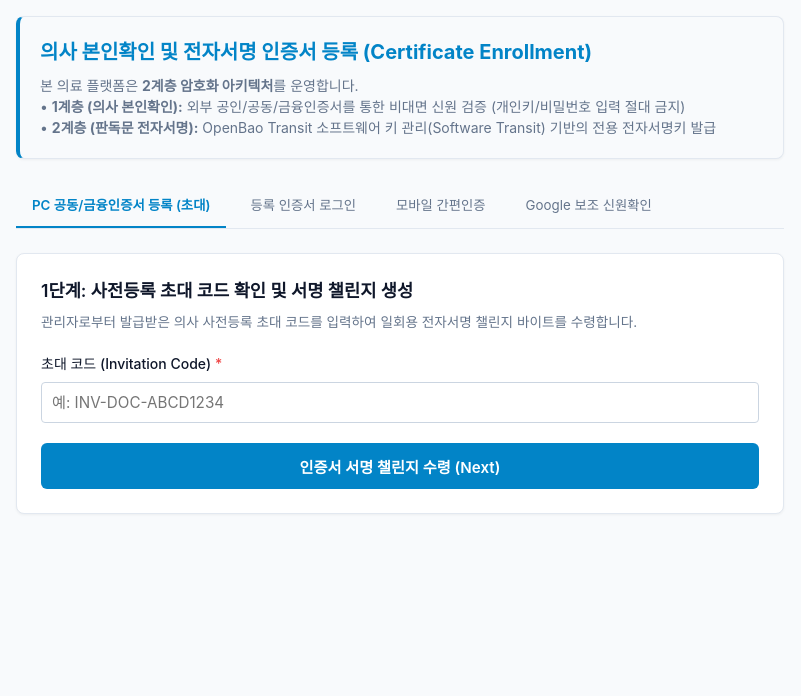
Test: Definitive Certificate Enrollment HTTP Contract Tests › 2. POST /v1/certificate-enrollment/challenges: displays exact signedPayload bytes and strictly NO private key/password inputs
Type "INV-TEST-PC-1234" into the field with test id "cert-invitation-code-input" at (400, 402), box [41, 382, 759, 423]
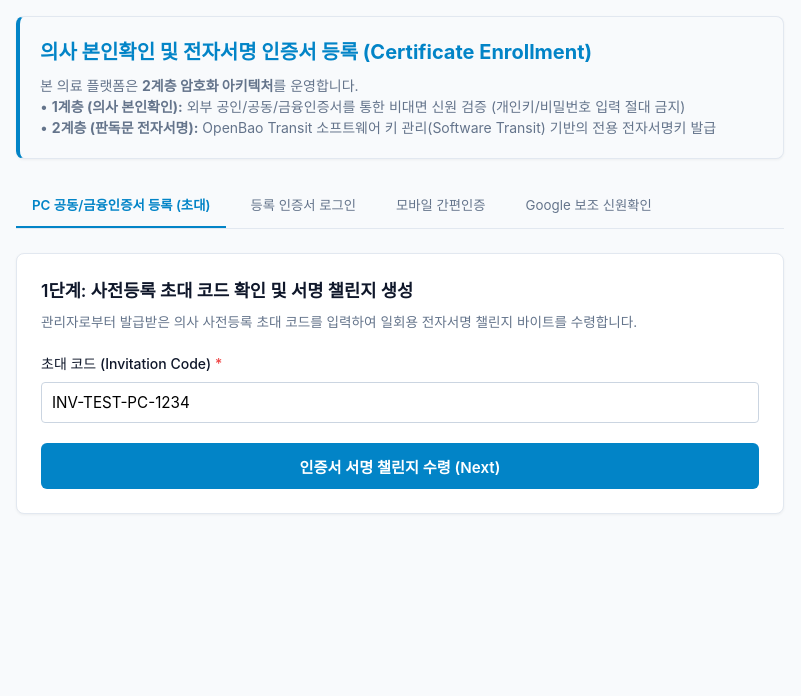
Click the button with test id "request-cert-challenge-btn" at (400, 466), box [41, 443, 759, 489]
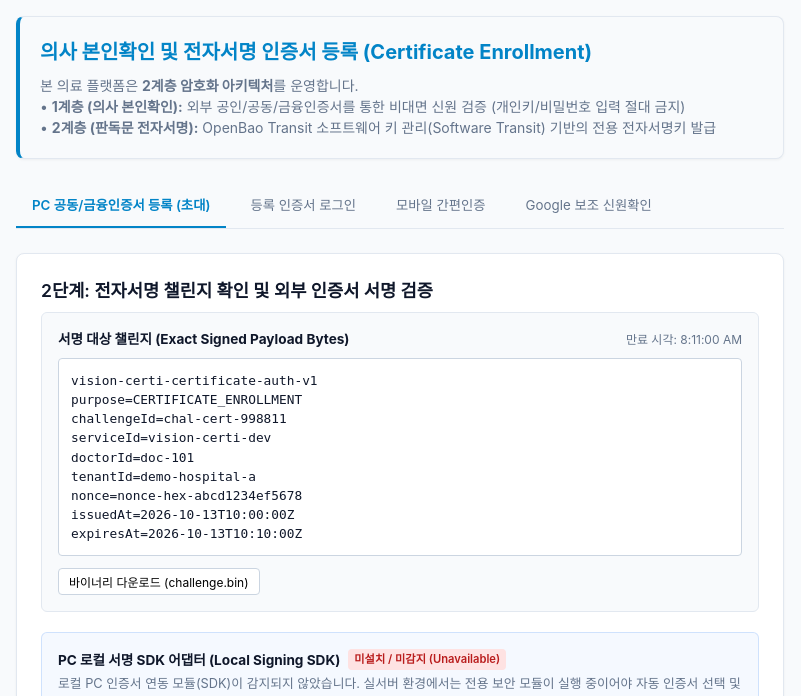
Now the text with test id "canonical-bytes-preview" is shown, box [58, 358, 742, 556]
Now the text with test id "canonical-bytes-preview" shows "vision-certi-certificate-auth-v1", box [71, 373, 318, 541]
Now the button with test id "download-challenge-btn" is shown, box [58, 568, 260, 596]
